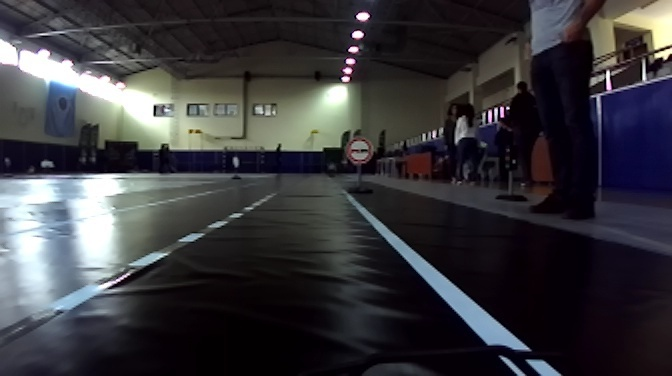sollama_yasak: (345, 140, 374, 164)
